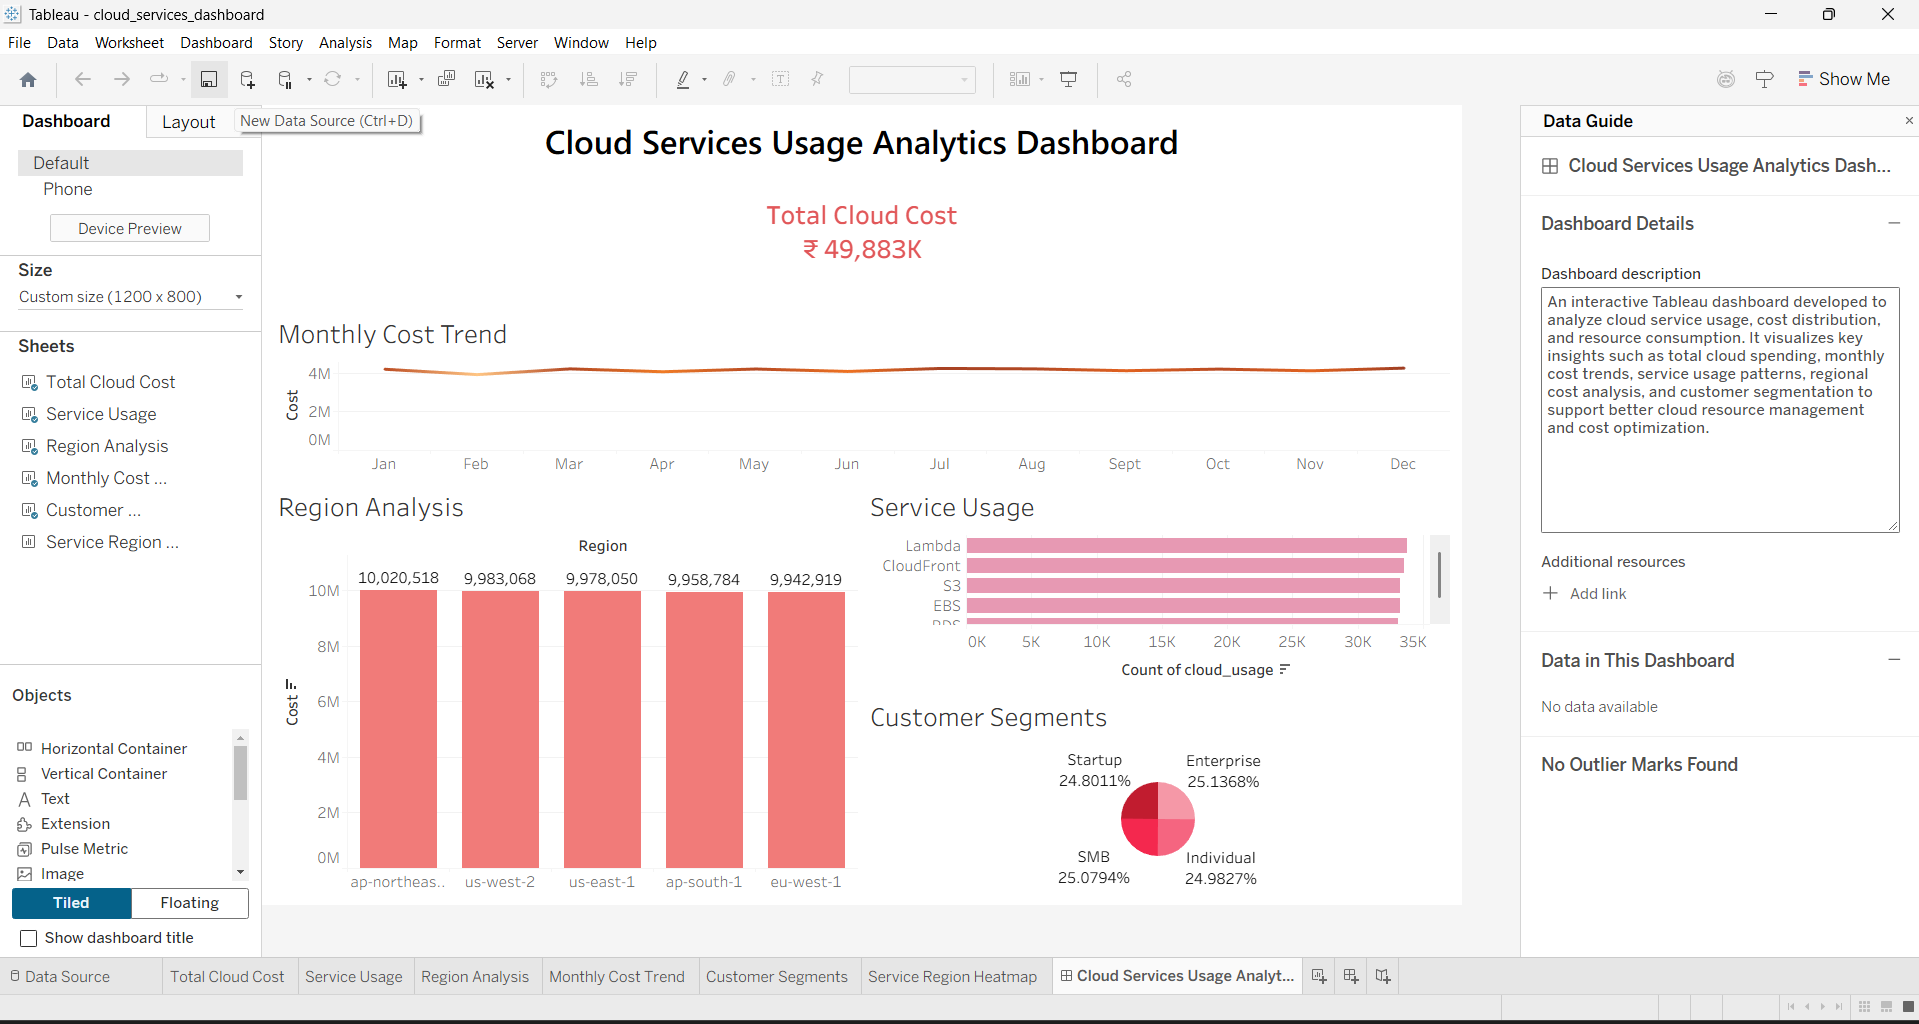

The dashboard page shown, as its layout file describes it:
{"tool":"tableau","page":{"name":"Cloud Services Usage Analytics Dashboard","canvas":[1200,800],"ordinal":0},"visuals":[{"type":"text","box":[0,2,1197,53]},{"type":"text","box":[8,8,1184,142]},{"type":"worksheet","title":"Total Cloud Cost","mark":"Automatic","box":[469,41,297,145]},{"type":"worksheet","title":"Storage Usage Share","mark":"Pie","box":[671,140,503,245]},{"type":"worksheet","title":"Service Cost Contribution","mark":"Bar","rows":["service_type"],"cols":["cost_usd"],"box":[8,150,518.9,195]},{"type":"worksheet","title":"Service Usage","mark":"Automatic","rows":["service_type"],"cols":["cloud_usage_85B2ED757A334D1FA61AE93D3A8AA0F7"],"box":[599.9,377,592.1,223]},{"type":"worksheet","title":"Region Analysis","mark":"Bar","rows":["cost_usd"],"cols":["region"],"box":[8,390.6,591.9,401.4]},{"type":"worksheet","title":"Customer Segments","mark":"Pie","box":[599.9,600,592.1,192]}]}

Visuals, with their boxes on the page's 1200x800 design canvas (x1, y1, x2, y2). These are canvas units, not pixel positions in the 1919x1024 screenshot, which may show the page scaled, cropped or inside an application window:
text: 0, 2, 1197, 55
text: 8, 8, 1192, 150
"Total Cloud Cost" worksheet: 469, 41, 766, 186
"Storage Usage Share" worksheet (Pie marks): 671, 140, 1174, 385
"Service Cost Contribution" worksheet (Bar marks): 8, 150, 527, 345
"Service Usage" worksheet: 600, 377, 1192, 600
"Region Analysis" worksheet (Bar marks): 8, 391, 600, 792
"Customer Segments" worksheet (Pie marks): 600, 600, 1192, 792
